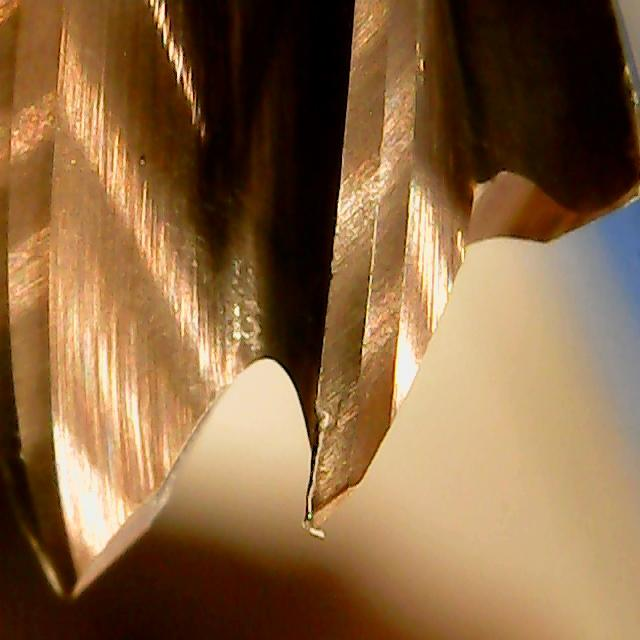Tool-wear-class-1: (294, 208, 427, 540)
